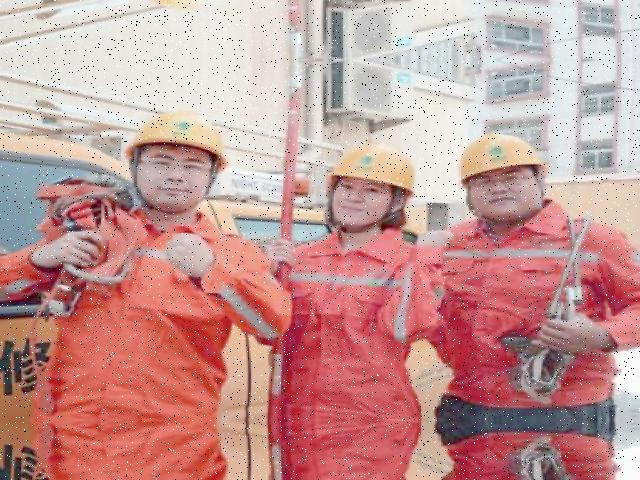Helmet: (118, 106, 234, 174), (317, 138, 422, 200), (451, 128, 549, 189)
